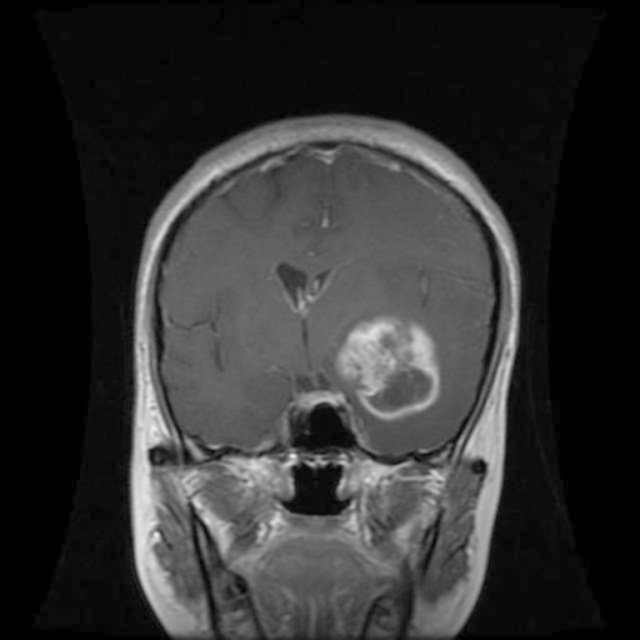pituitary tumor: (350, 315, 440, 419)
